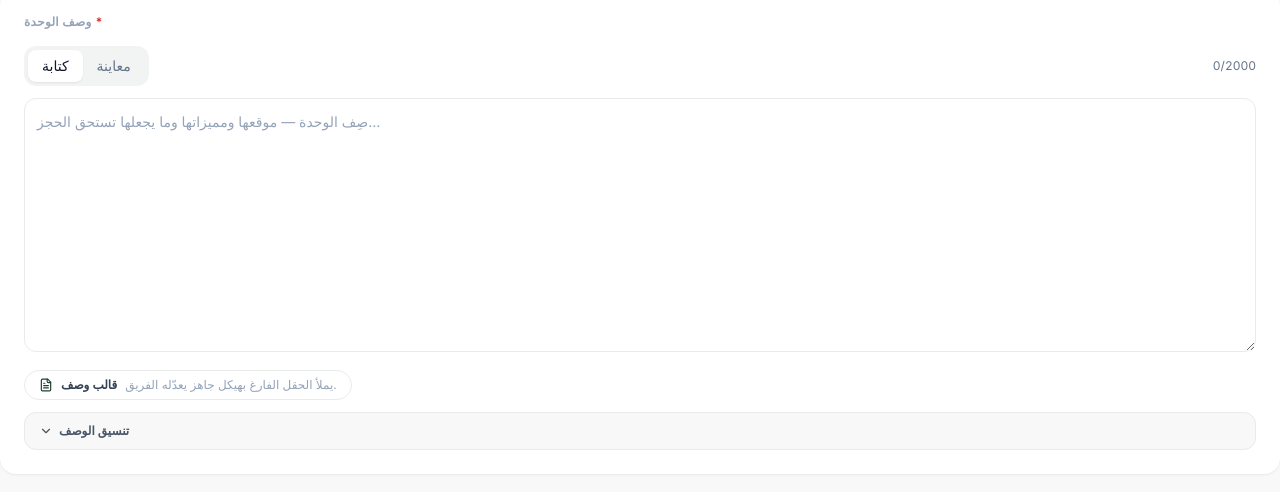
DescriptionField › fills an empty field from the template, then stops offering to
Click the button "قالب وصف يملأ الحقل الفارغ بهيكل جاهز يعدّله الفريق." at (188, 384), box [24,370,352,400]
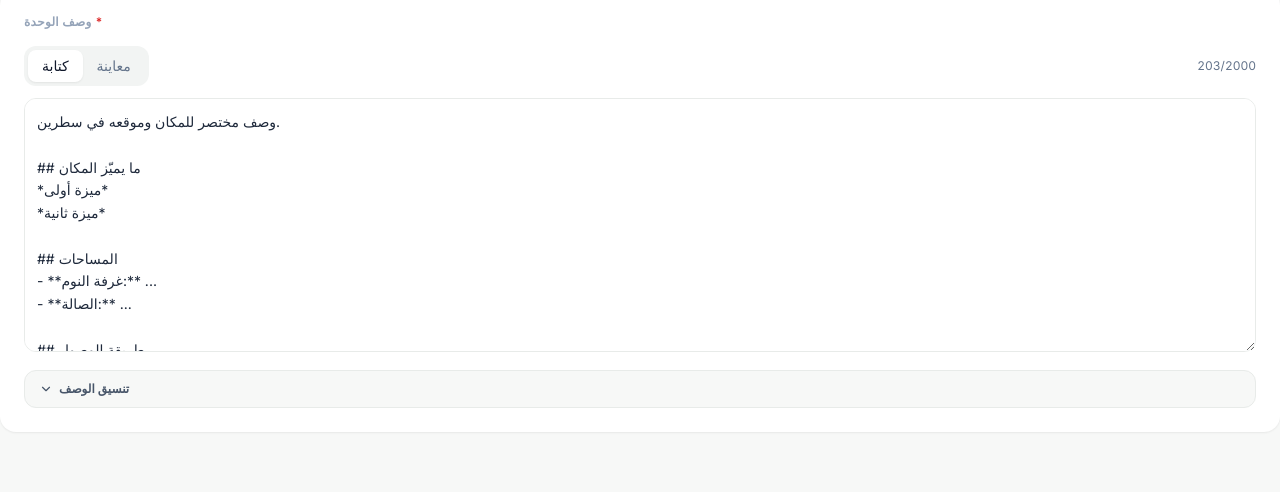
Result: the text box named "وصف الوحدة" holds "وصف مختصر للمكان وموقعه في سطرين. ## ما يميّز المكان *ميزة أولى* *ميزة ثانية* ## المساحات - **غرفة النوم:** ... - **الصالة:** ... ## طريقة الوصول 1. ... 2. ... " at [24,98,1256,352]
Result: the button "قالب وصف" is gone
